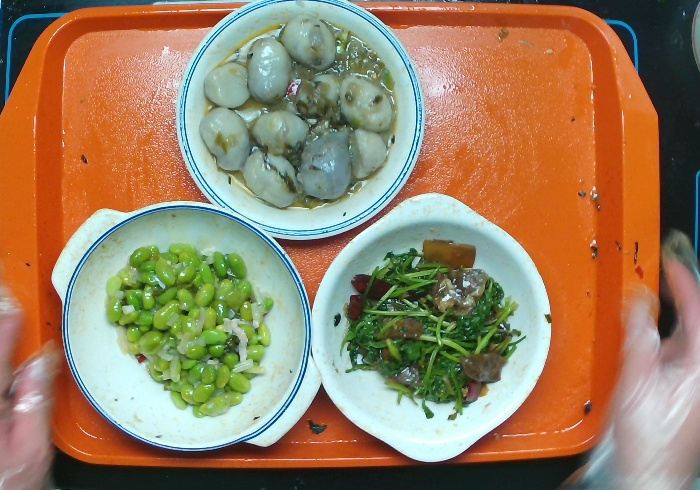HZYJPL-Dai_Er_Bai_Yuan_Wan: (304, 189, 558, 467)
HZYJPL-Lan_Bian_Dai_Er_Wan: (45, 198, 327, 457)
HZYJPL-Lan_Bian_Yuan_Die: (170, 1, 429, 245)
